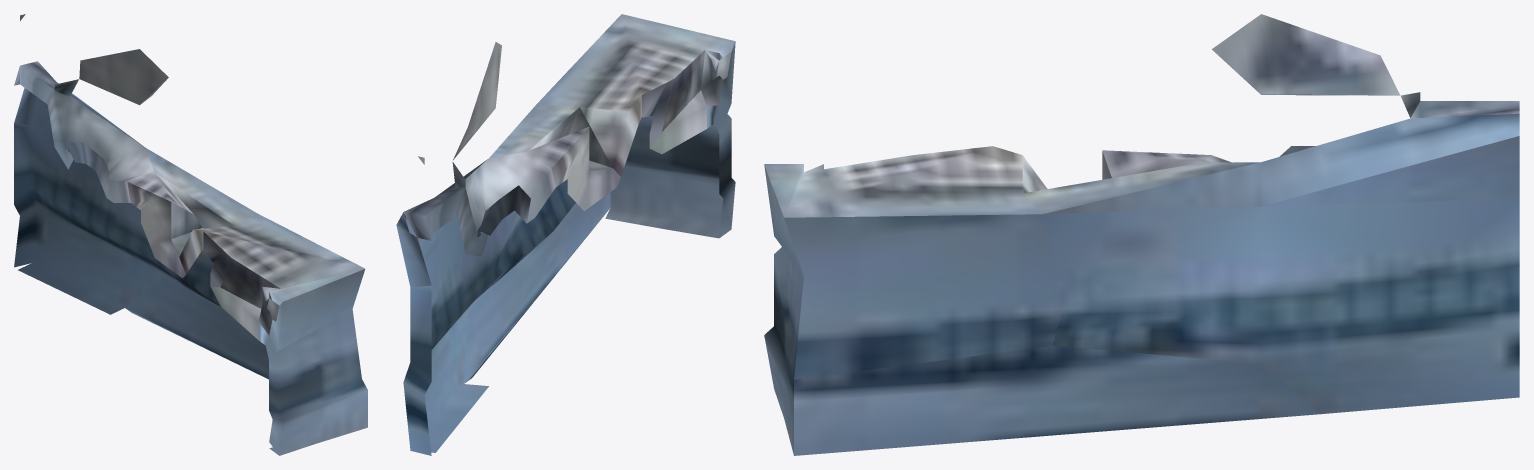
The picture shows the model from 3 angles, left to right: view 1: azimuth 30°, elevation 25°; view 2: azimuth 150°, elevation 25°; view 3: azimuth 270°, elevation 25°; orthographic projection. The views are drawn at different scales.
Parts seen in each view (by area): view 1: 3043627270436150644_0; view 2: 3043627270436150644_0; view 3: 3043627270436150644_0.
Part boxes in pixels (x1=…): 3043627270436150644_0: x1=14, y1=14, x2=367, y2=455; 3043627270436150644_0: x1=396, y1=14, x2=735, y2=455; 3043627270436150644_0: x1=764, y1=14, x2=1519, y2=455.
Size of the model in its own units: 5.22 by 13.56 by 23.45.
1 material, 1 textured.
